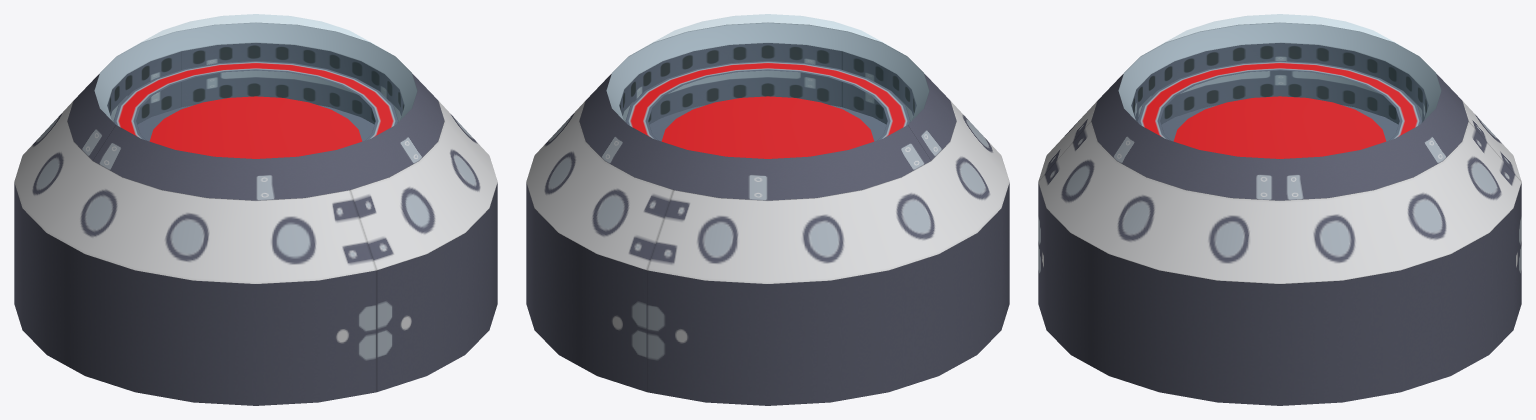
The model's file is Drone_Eye_01.FBX.
3 renders of one model, left to right at view 1: azimuth 30°, elevation 25°; view 2: azimuth 150°, elevation 25°; view 3: azimuth 270°, elevation 25°, orthographic.
Visible parts, largest first — view 1: Drone_Eye_01, Glass_01, Iris_02, Iris_01; view 2: Drone_Eye_01, Glass_01, Iris_02, Iris_01; view 3: Drone_Eye_01, Glass_01, Iris_02, Iris_01.
Boxes of the visible parts, x1,y1,x2,y2 form: Drone_Eye_01: (14,22,497,405); Glass_01: (95,14,416,158); Iris_02: (149,96,362,158); Iris_01: (113,61,398,140); Drone_Eye_01: (526,22,1009,405); Glass_01: (607,14,928,158); Iris_02: (661,96,874,158); Iris_01: (625,61,910,140); Drone_Eye_01: (1038,22,1521,405); Glass_01: (1119,14,1440,158); Iris_02: (1173,96,1386,158); Iris_01: (1137,61,1422,140).
Bounding box in the file's own units: 5.39 × 3.25 × 5.39.
Materials: 3 (2 with a texture image).
